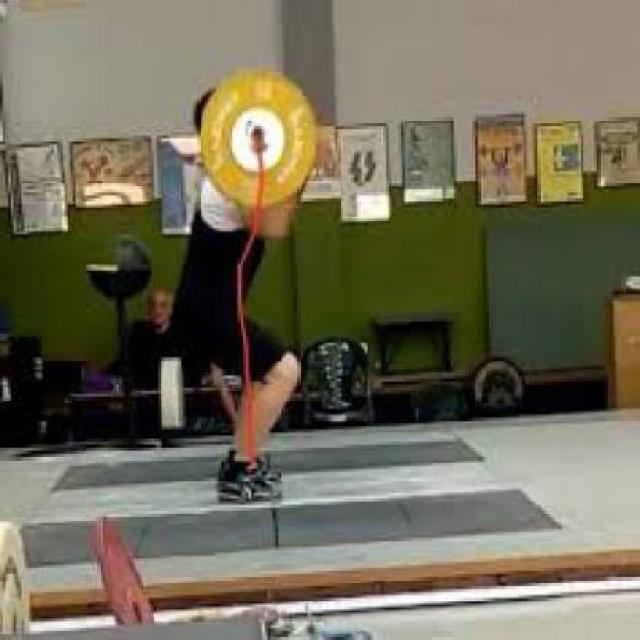barbell: (195, 62, 324, 216)
